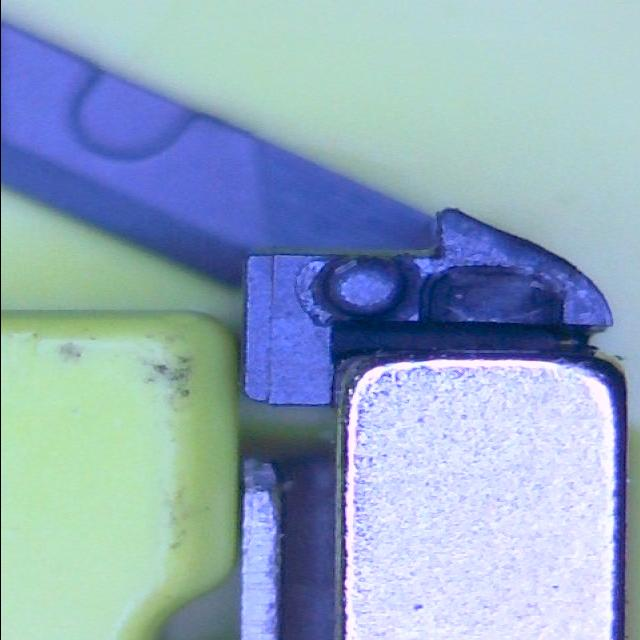over: (421, 262, 567, 328)
